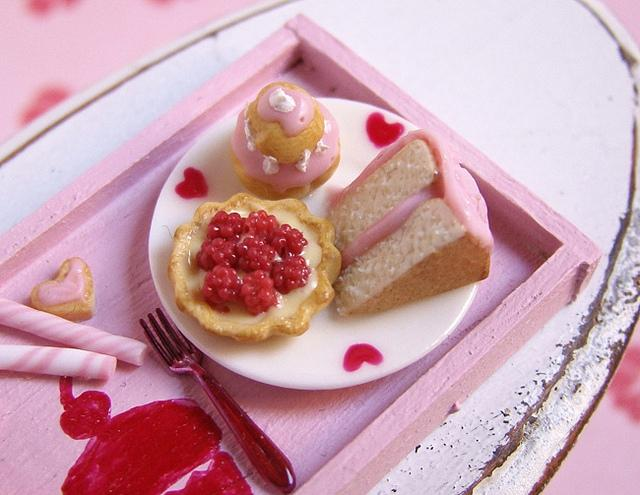raspberry: (242, 270, 280, 315), (265, 224, 308, 262), (202, 265, 244, 303), (236, 237, 276, 275), (270, 256, 310, 294), (196, 238, 238, 272), (206, 210, 248, 243), (242, 210, 280, 242)
